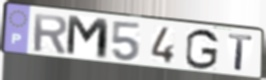4: (149, 27, 177, 66)
5: (110, 20, 143, 63)
G: (184, 28, 221, 72)
M: (64, 13, 111, 62)
R: (31, 12, 69, 56)
T: (227, 32, 255, 74)
